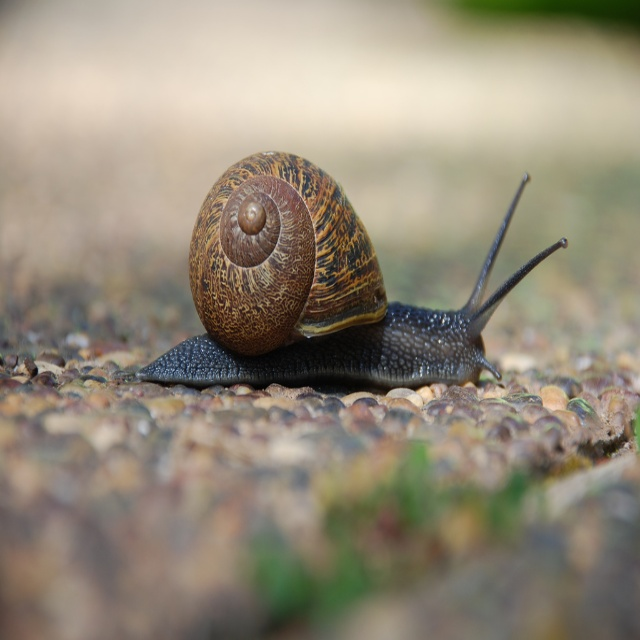Snail: (135, 151, 568, 382)
